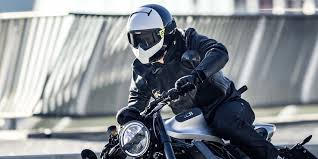helmet: (116, 9, 184, 66)
